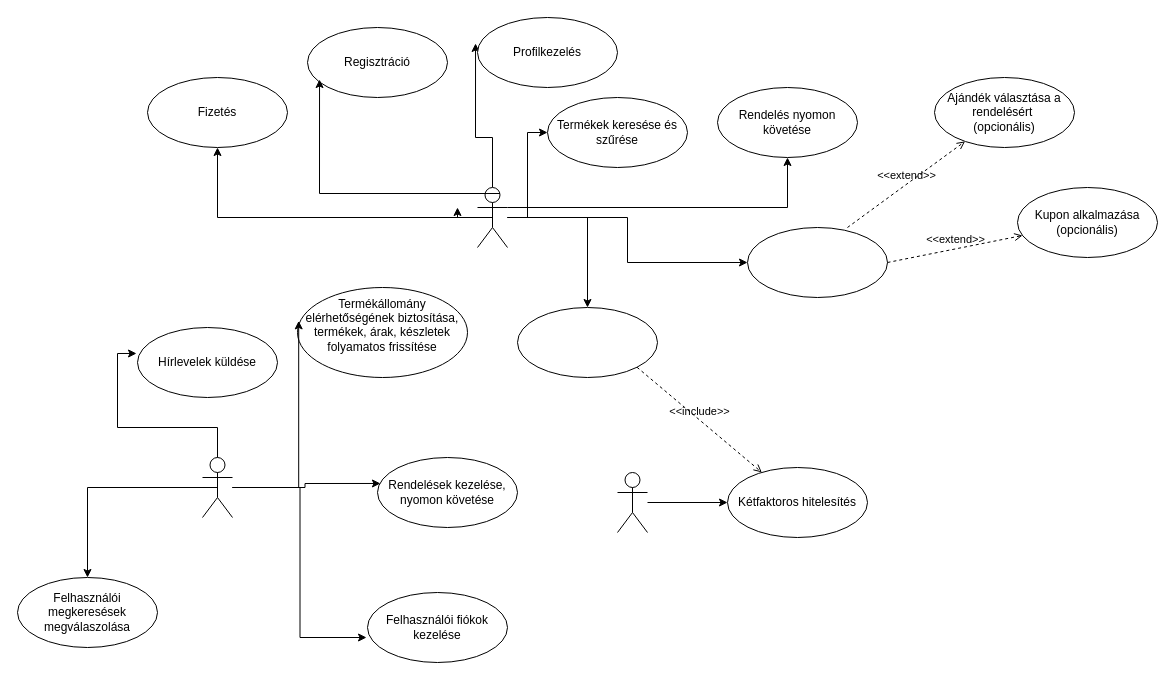
The diagram is 1175 pixels wide and 680 high, and some of its shapes have lost their labels. The box of each missing label's shape, as (x1, y1, x2, y2) in pixels:
Bejelentkezés: (516, 306, 658, 378)
Felhasználó (User): (476, 186, 508, 248)
Kosár kezelése (Cart Management): (746, 226, 888, 298)
Rendszer (Webshop System): (616, 472, 648, 532)
Webáruház adminisztrátor (Webshop Administrator): (202, 456, 232, 518)
